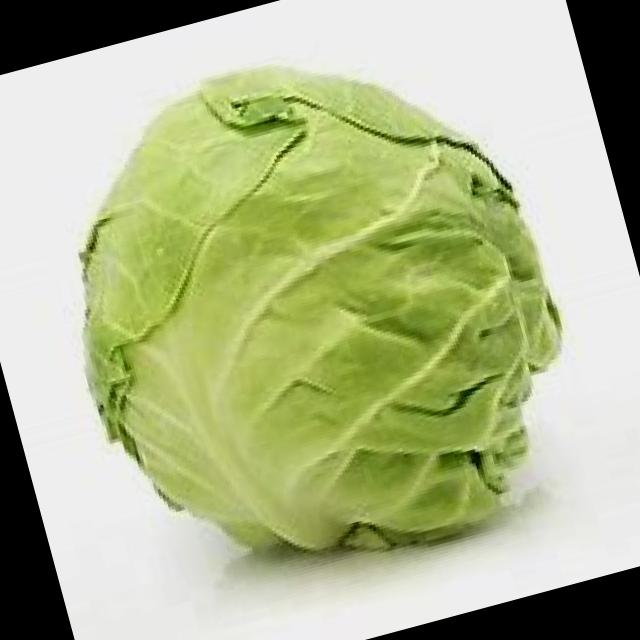cabbage: (0, 9, 633, 628)
